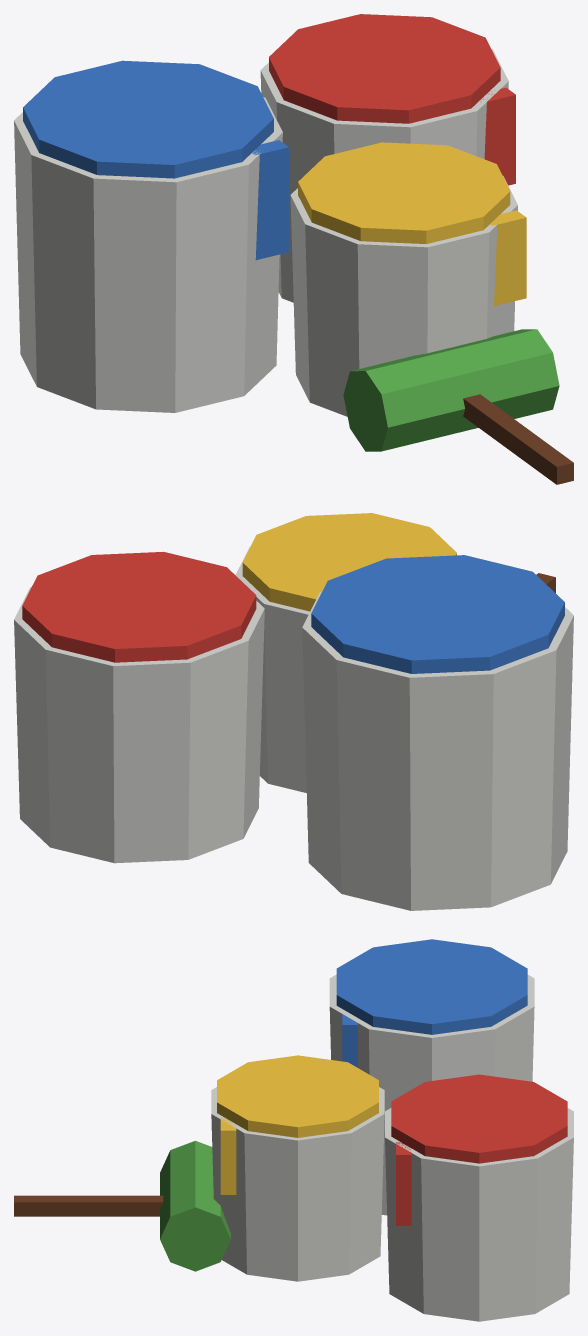
The model's file is a-paint-pots.glb.
3 views of the same model, one above another, from view 1: azimuth 30°, elevation 25°; view 2: azimuth 150°, elevation 25°; view 3: azimuth 270°, elevation 25° (orthographic). The views are drawn at different scales.
Visible parts, largest first — view 1: a-paint-pots; view 2: a-paint-pots; view 3: a-paint-pots.
Part boxes in pixels (box(x1,y1,x2,y2)): a-paint-pots: box(14, 14, 573, 484); a-paint-pots: box(14, 513, 573, 910); a-paint-pots: box(14, 939, 573, 1321).
Size of the model in its own units: 0.5725 by 0.275 by 0.7098.
